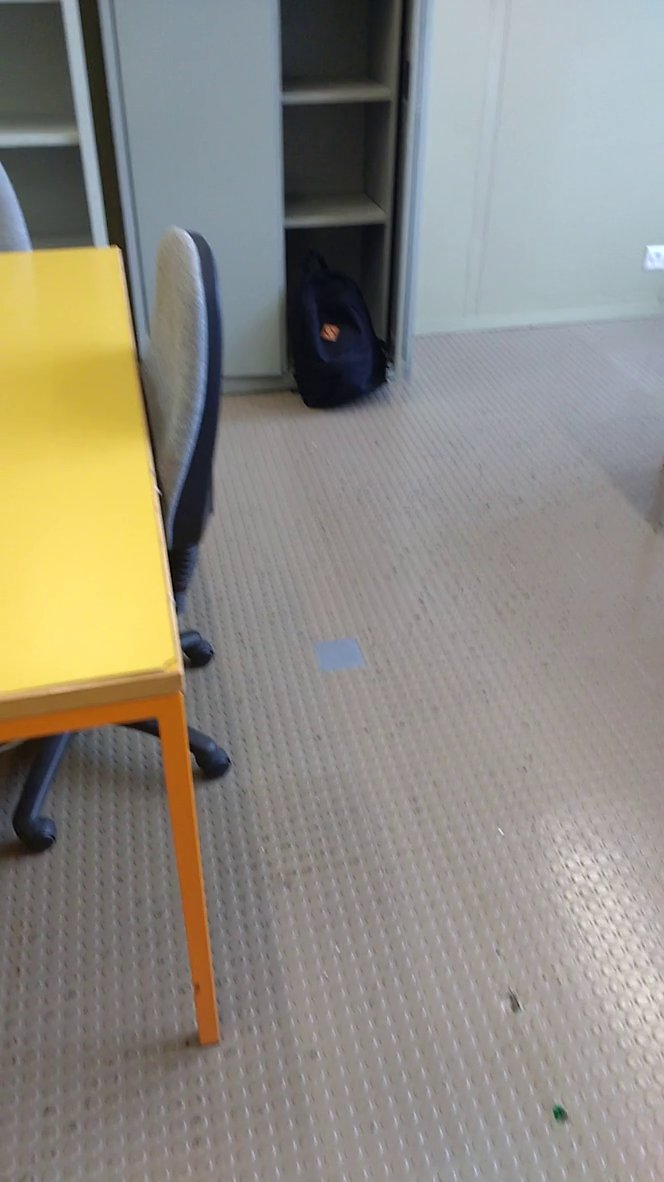bag: (277, 245, 402, 417)
chair: (110, 211, 258, 726)
